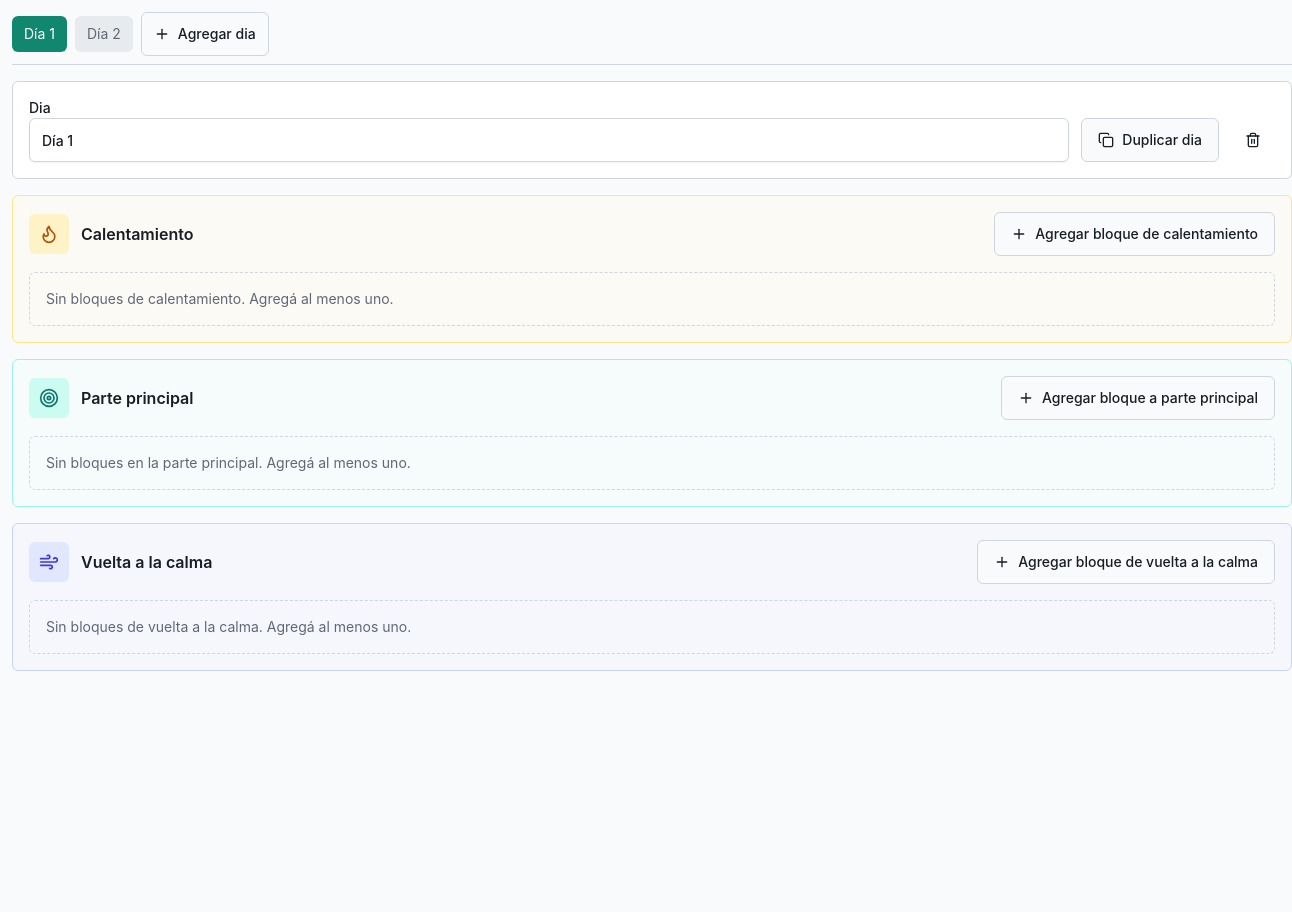
Test: TrainingDaysEditor template › keeps names distinct through add, duplicate and remove
Click the button "Agregar dia".
click(205, 34)  # box [141, 12, 269, 56]
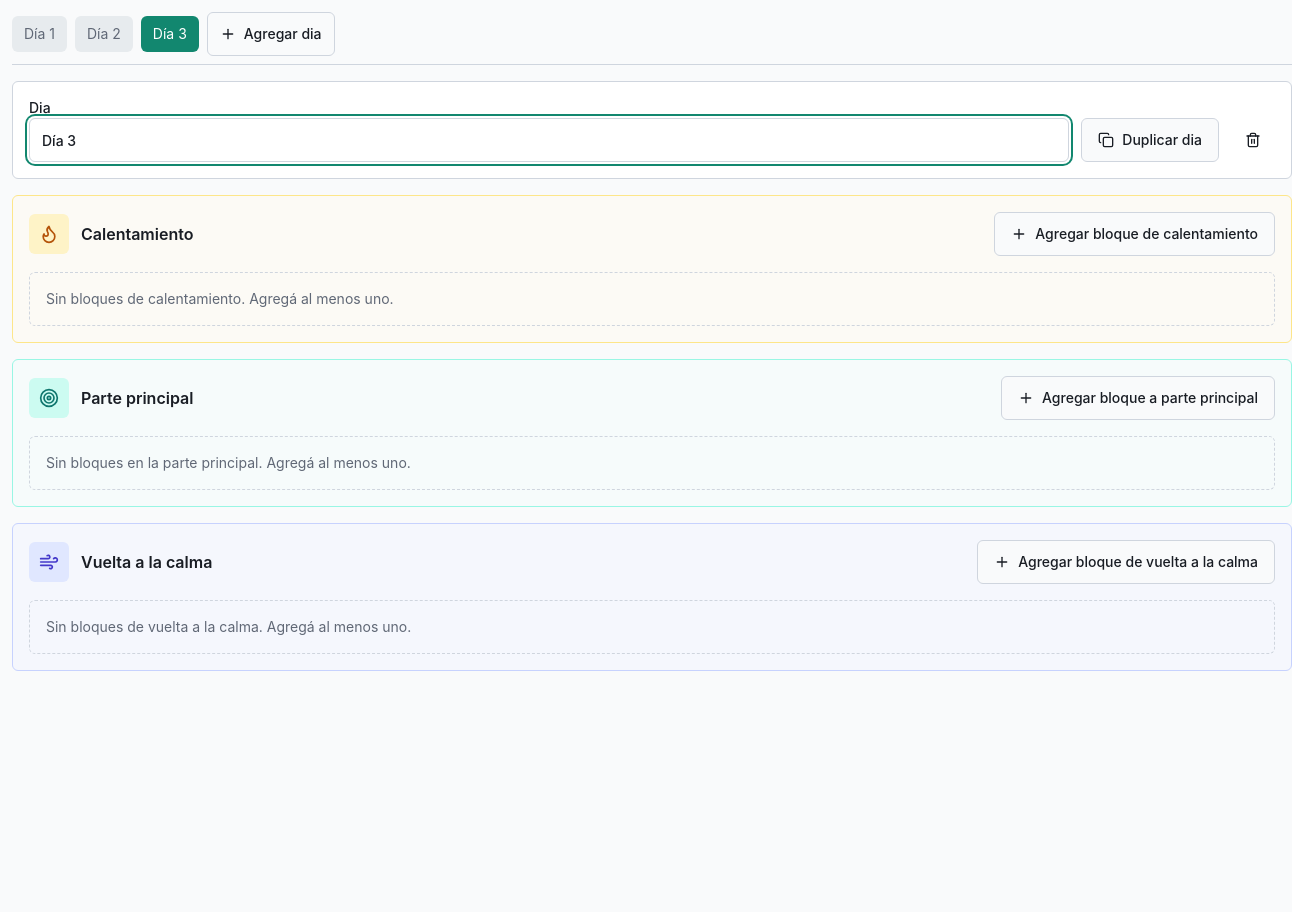
Result: the field labelled "Dia" holds "Día 3" at [29, 118, 1069, 162]
Click the button "Duplicar dia".
click(1150, 140)  # box [1081, 118, 1219, 162]
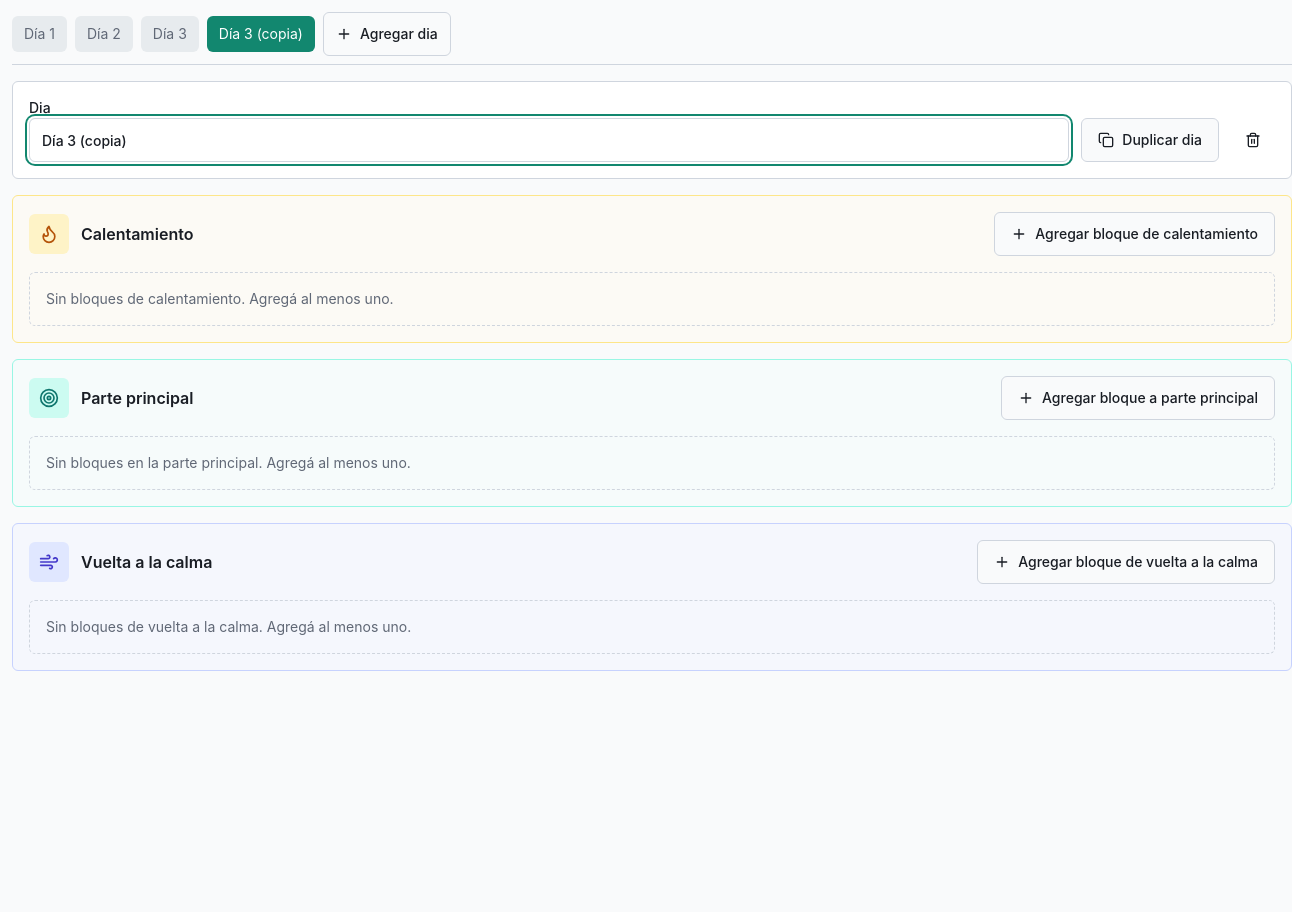
Result: the field labelled "Dia" holds "Día 3 (copia)" at [29, 118, 1069, 162]
Click the button named "Eliminar Día 3 (copia)".
click(1253, 140)  # box [1231, 118, 1275, 162]
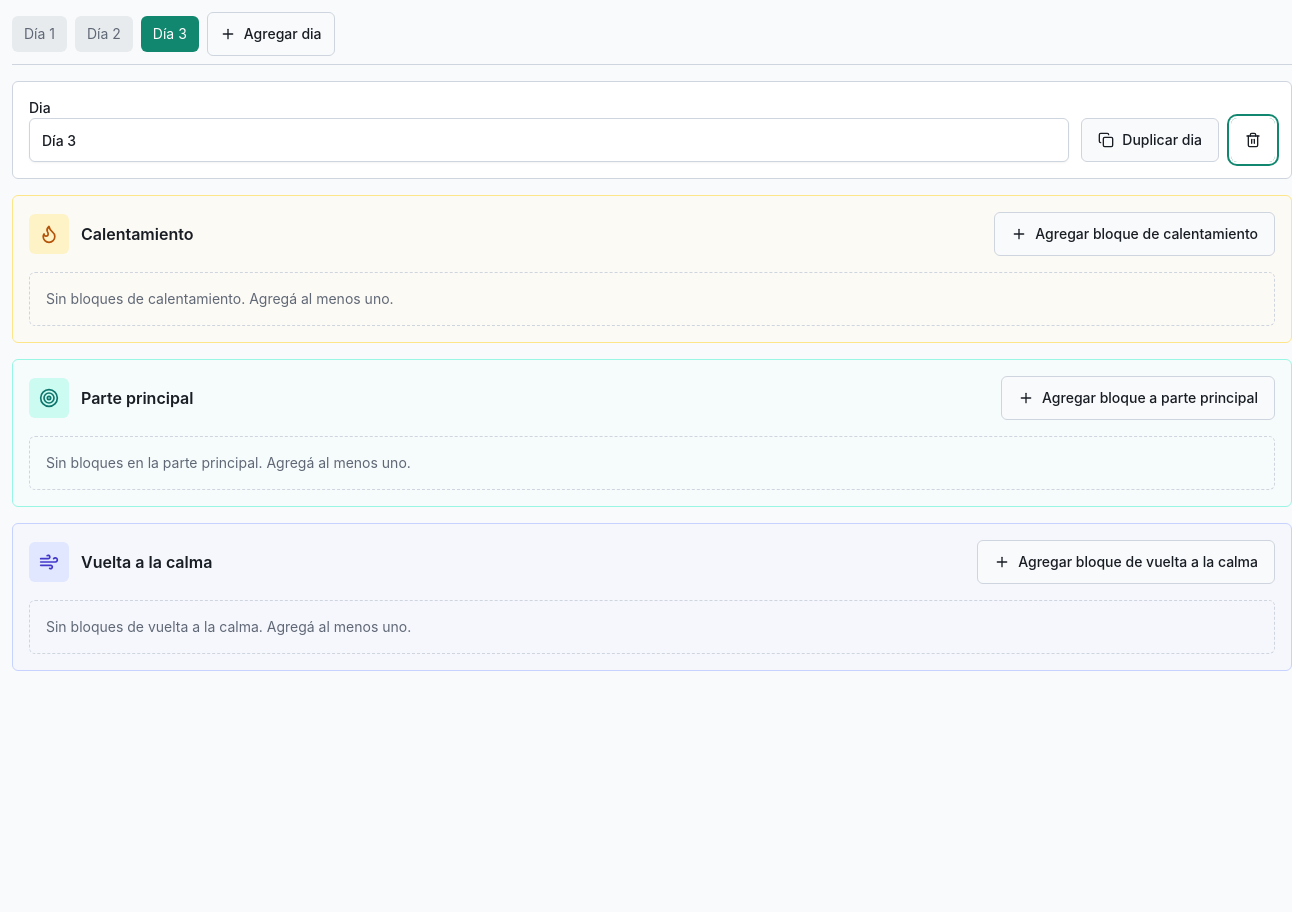
Result: the field labelled "Dia" holds "Día 3" at [29, 118, 1069, 162]
